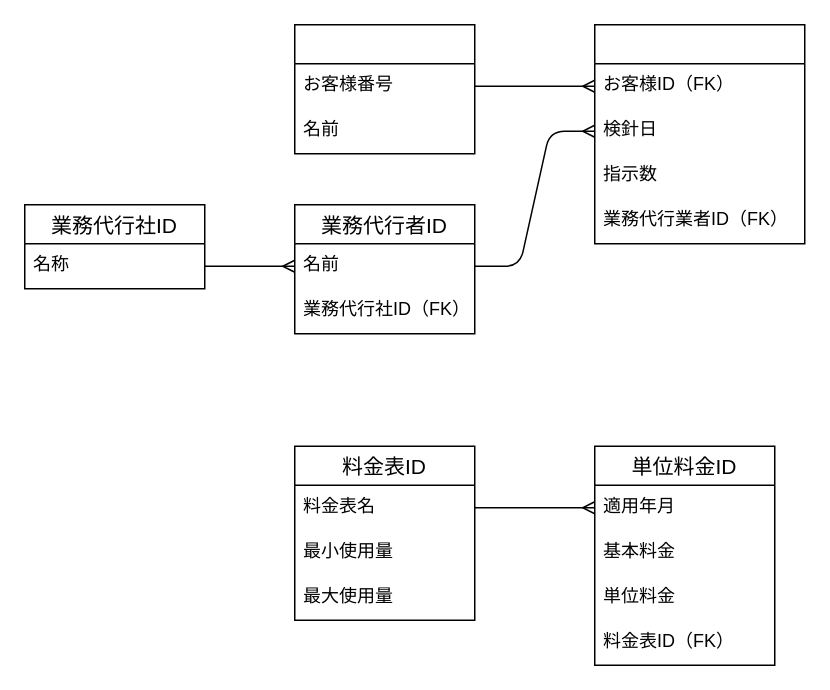
Some shapes in this 830 by 690 pixel diagram are drawn without their labels. Here are the shapes that lost their labels. From the top down, the box of each, then its label:
(293, 23, 475, 154): お客様ID
(593, 23, 805, 244): 検針ID
